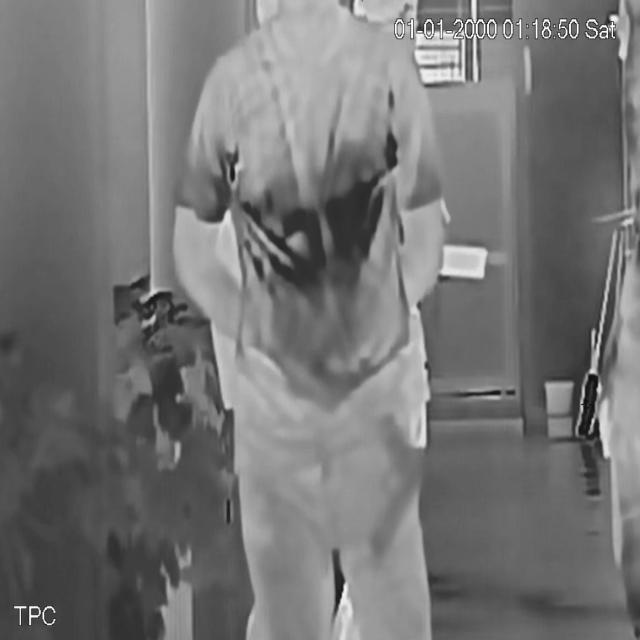Weapon: (361, 411, 434, 569)
